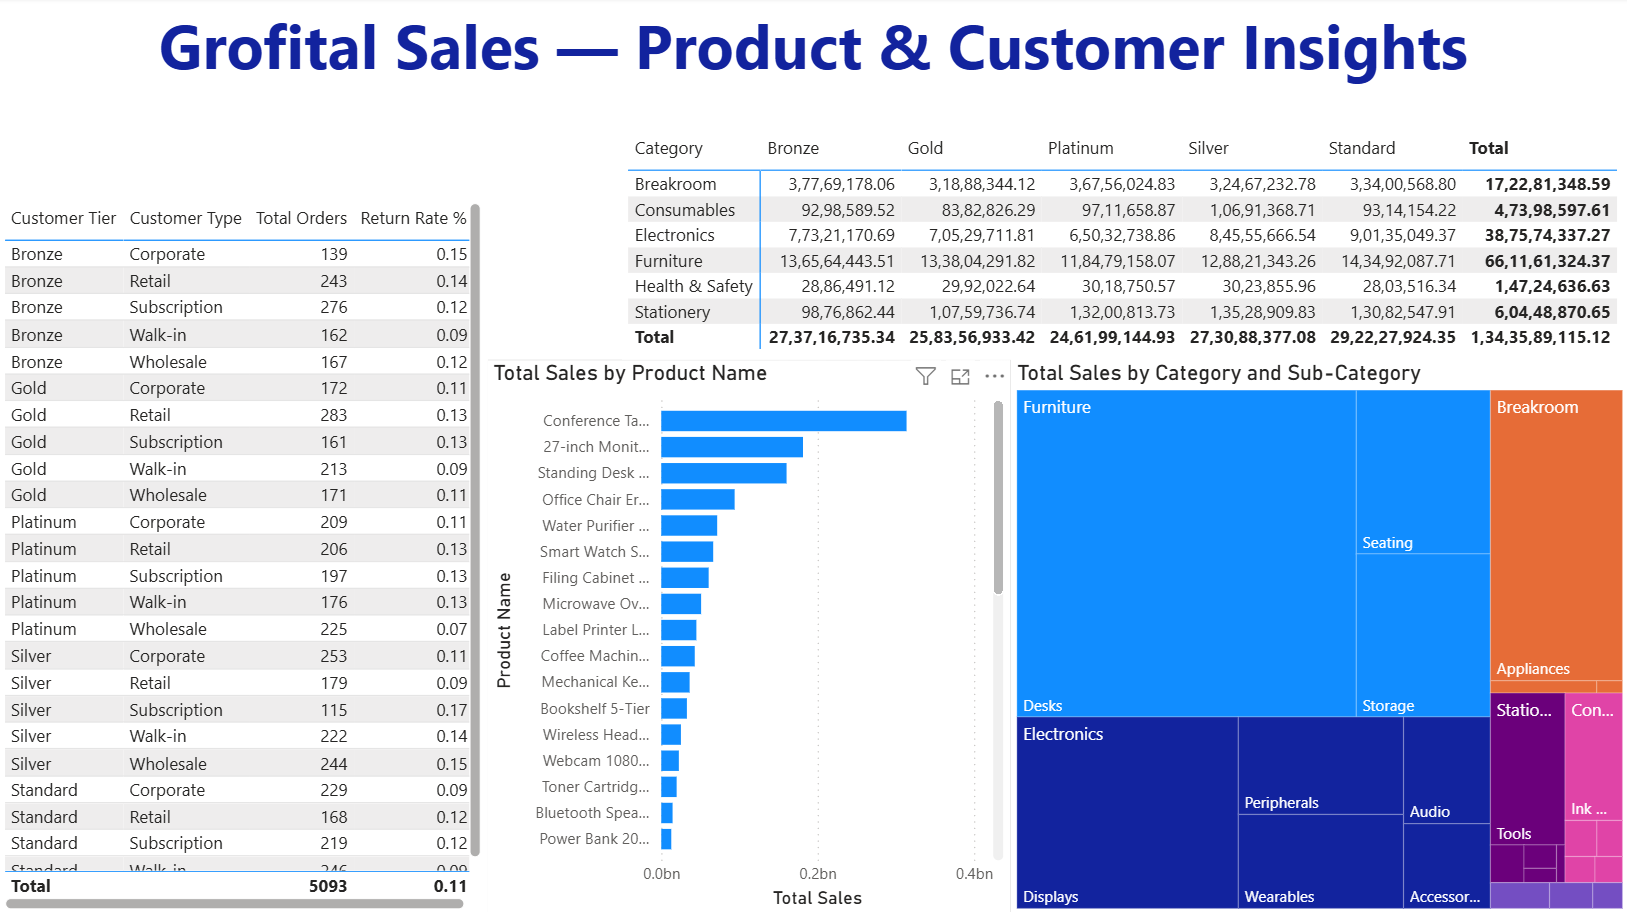

What the dashboard file says about the page in this screenshot:
{"tool":"powerbi","page":{"name":"Product & Customer Insights","canvas":[1280,720],"ordinal":2},"visuals":[{"type":"treemap","fields":{"Values":["Fact_Sales.Total Sales"],"Group":["Dim_Product.Category"],"Details":["Dim_Product.Sub-Category"]},"box":[794.4,284.4,485.6,435.6],"z":0},{"type":"barChart","fields":{"Y":["Fact_Sales.Total Sales"],"Category":["Dim_Product.Product Name"]},"box":[384.4,284.4,410,435.6],"z":1000},{"type":"tableEx","fields":{"Values":["Dim_Customer.Customer Tier","Dim_Customer.Customer Type","Fact_Sales.Total Orders","Fact_Sales.Return Rate %"]},"box":[0,156.7,384.4,563.3],"z":2000},{"type":"pivotTable","fields":{"Rows":["Dim_Product.Category"],"Columns":["Dim_Customer.Customer Tier"],"Values":["Fact_Sales.Total Sales"]},"box":[490,102.2,790,182.2],"z":3000},{"type":"textbox","box":[0,0,1280,85.6],"z":3001}]}

Visuals, with their boxes in screenshot pixels (x1, y1, x2, y2), scaled from the page's 1280x720 canvas onto the 1627x912 screenshot:
treemap - Fact_Sales.Total Sales x Dim_Product.Category: bbox(1010, 360, 1626, 911)
barChart - Fact_Sales.Total Sales x Dim_Product.Product Name: bbox(489, 360, 1010, 911)
tableEx - Dim_Customer.Customer Tier x Dim_Customer.Customer Type: bbox(0, 198, 489, 911)
pivotTable - Dim_Product.Category x Dim_Customer.Customer Tier: bbox(623, 129, 1626, 360)
textbox: bbox(0, 0, 1626, 108)
